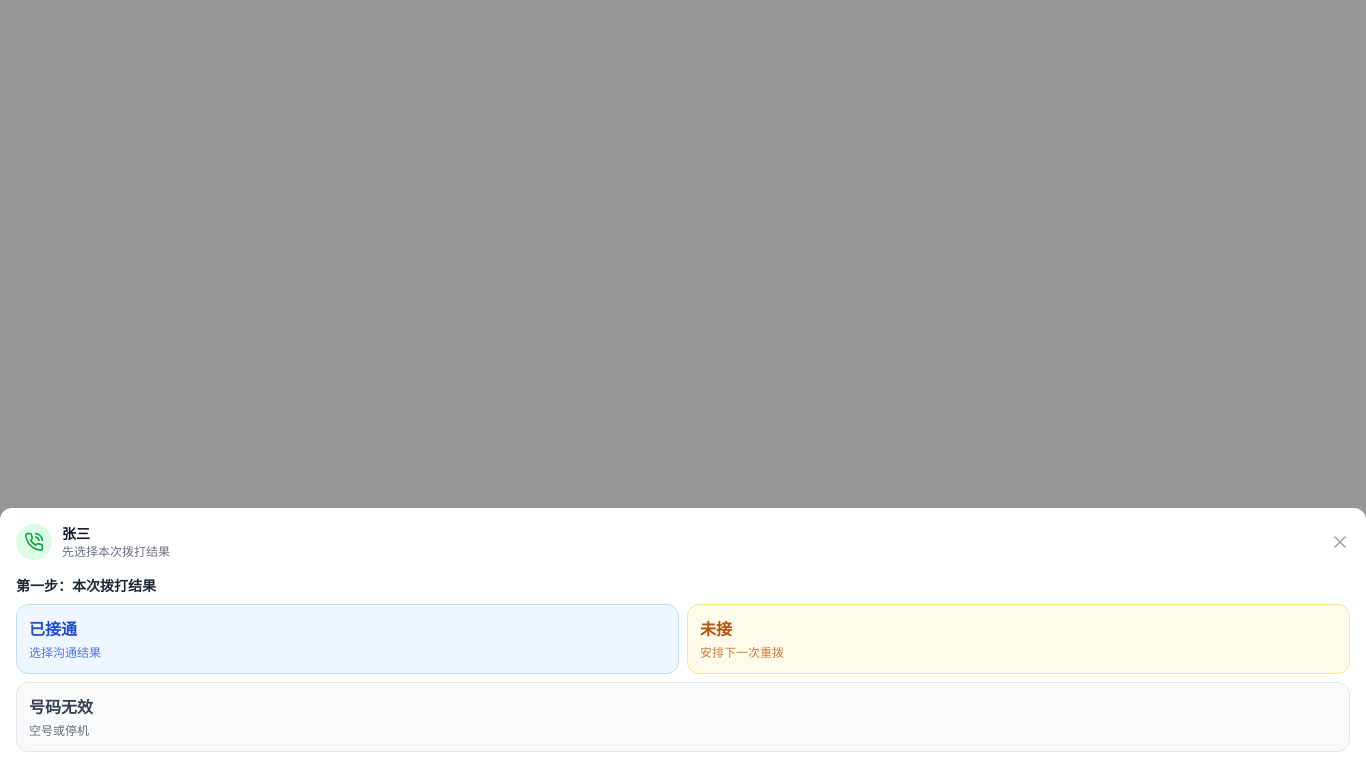
Scenario: recordCallResult › retains the dial session when completion fails after status save
Click the button "号码无效 空号或停机" at (61, 707), box [16,682,1350,752]
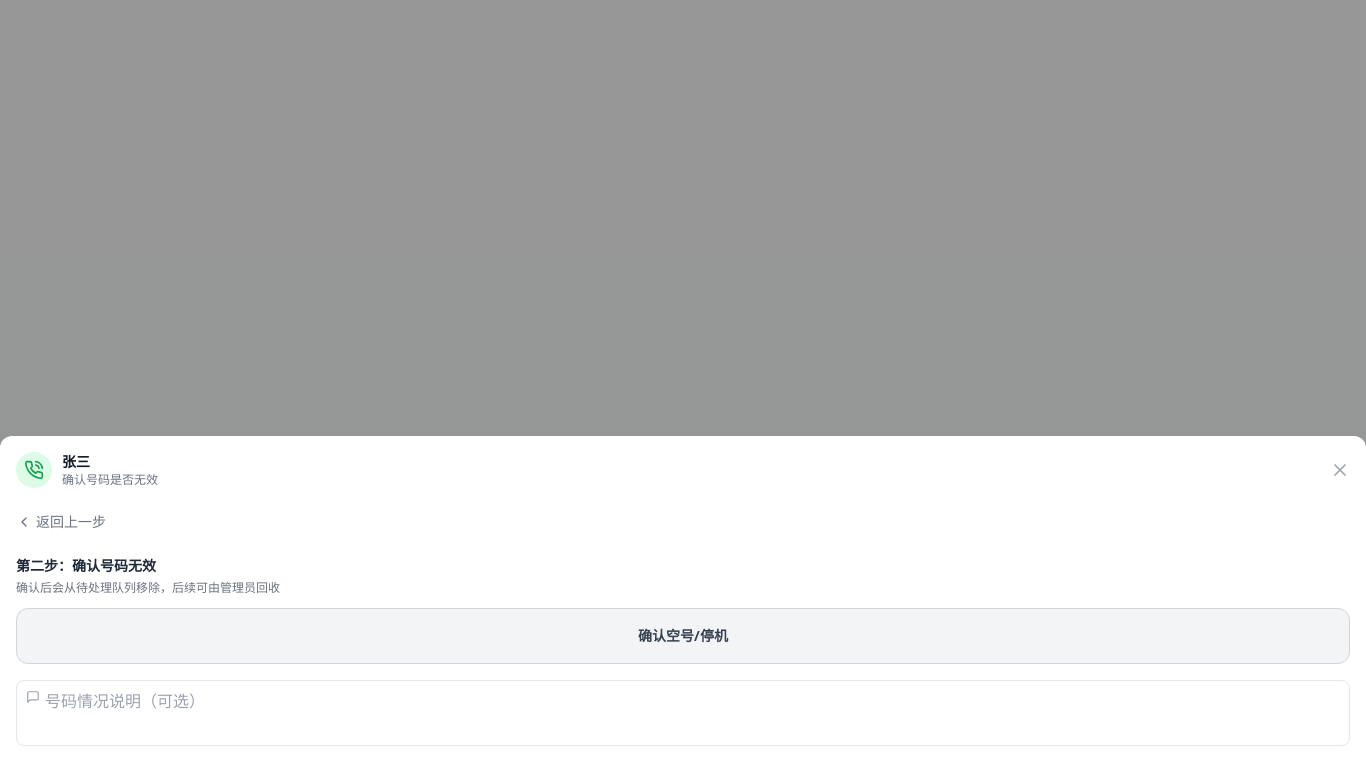
Click the button "确认空号/停机" at (683, 636), box [16,608,1350,664]
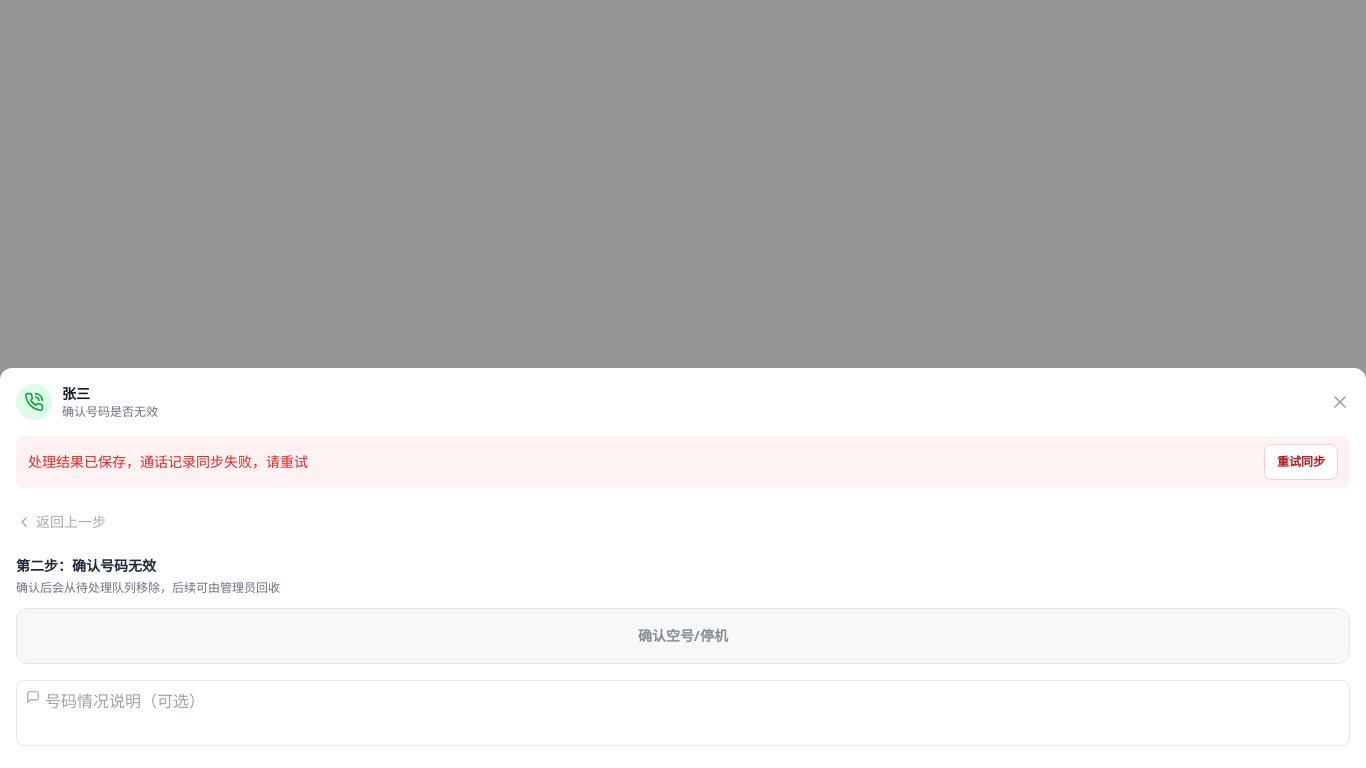
Expected: the message shows "处理结果已保存，通话记录同步失败，请重试", [28,452,308,471]
Expected: the button "重试同步" is shown, [1264,444,1338,480]
